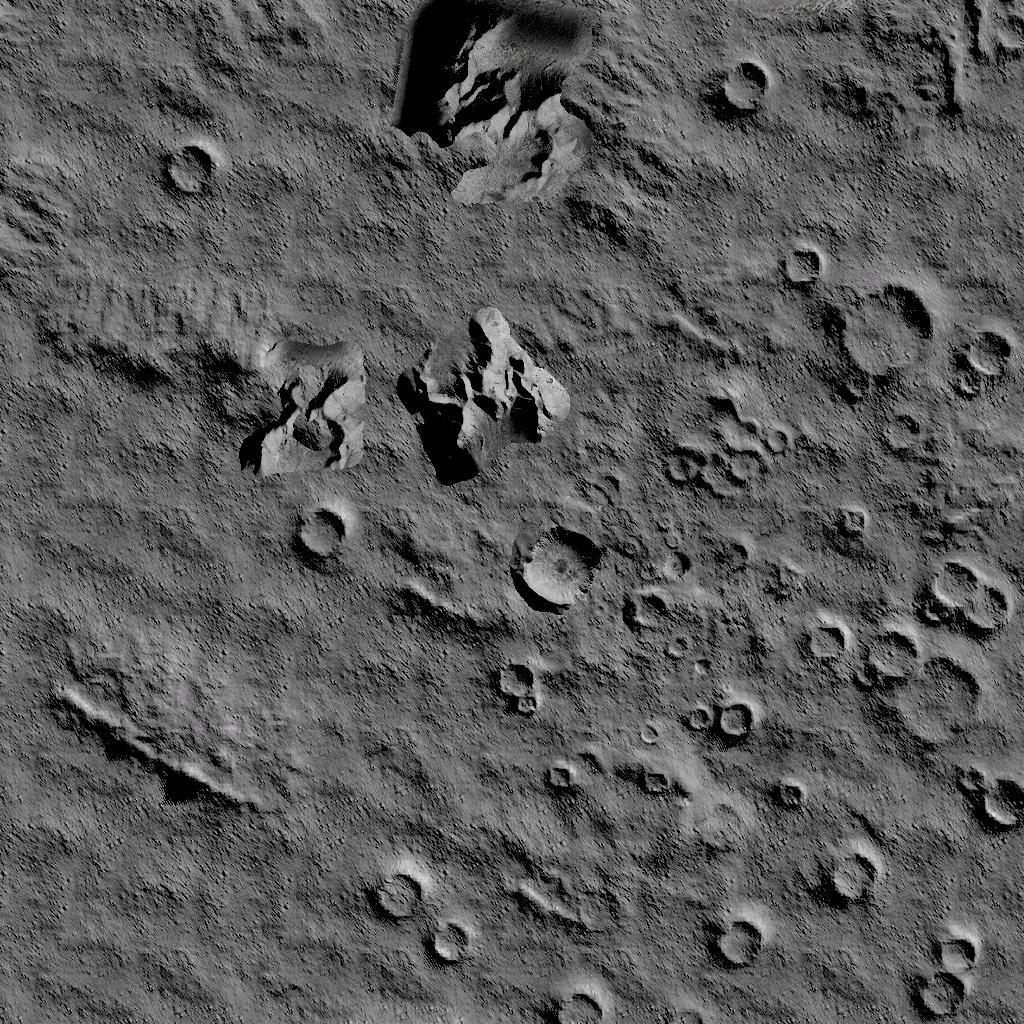Boulders: (396, 0, 675, 255), (44, 285, 370, 475), (46, 675, 266, 825), (398, 305, 573, 485), (0, 0, 331, 95), (806, 0, 1024, 133), (0, 165, 81, 270), (391, 575, 503, 635)
Crater: (778, 245, 930, 385), (666, 395, 790, 500), (861, 642, 985, 740), (368, 865, 473, 965), (921, 555, 1023, 633), (914, 930, 986, 1024), (518, 528, 600, 610), (954, 322, 1018, 408), (953, 765, 1024, 833), (294, 500, 350, 565), (714, 58, 776, 116), (681, 698, 758, 742), (494, 660, 546, 725), (161, 138, 218, 196), (826, 845, 880, 903), (708, 915, 762, 973), (544, 985, 610, 1024), (621, 585, 673, 633), (774, 770, 808, 818), (634, 760, 672, 800), (540, 762, 576, 792)
Plan surface: (0, 838, 356, 1024), (0, 488, 281, 666), (296, 648, 483, 828), (238, 110, 378, 273)
